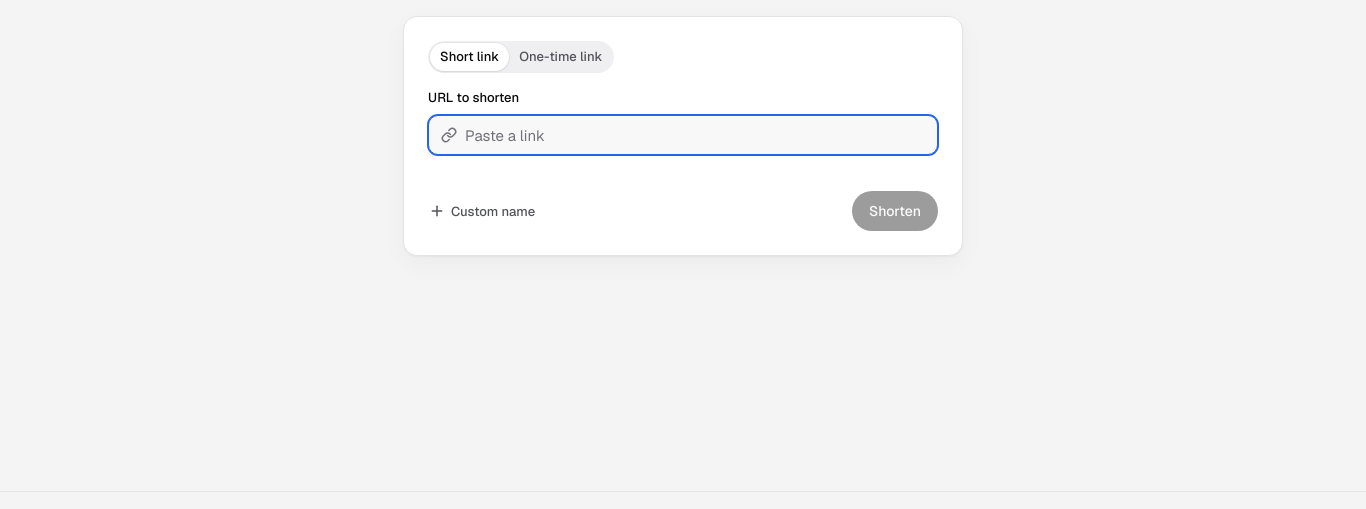
Scenario: home page without layout shift › puts URL or Text on the mode row, so the field below never moves
Click the radio button labelled "One-time link" at coordinates (561, 57), box [509, 43, 612, 71]
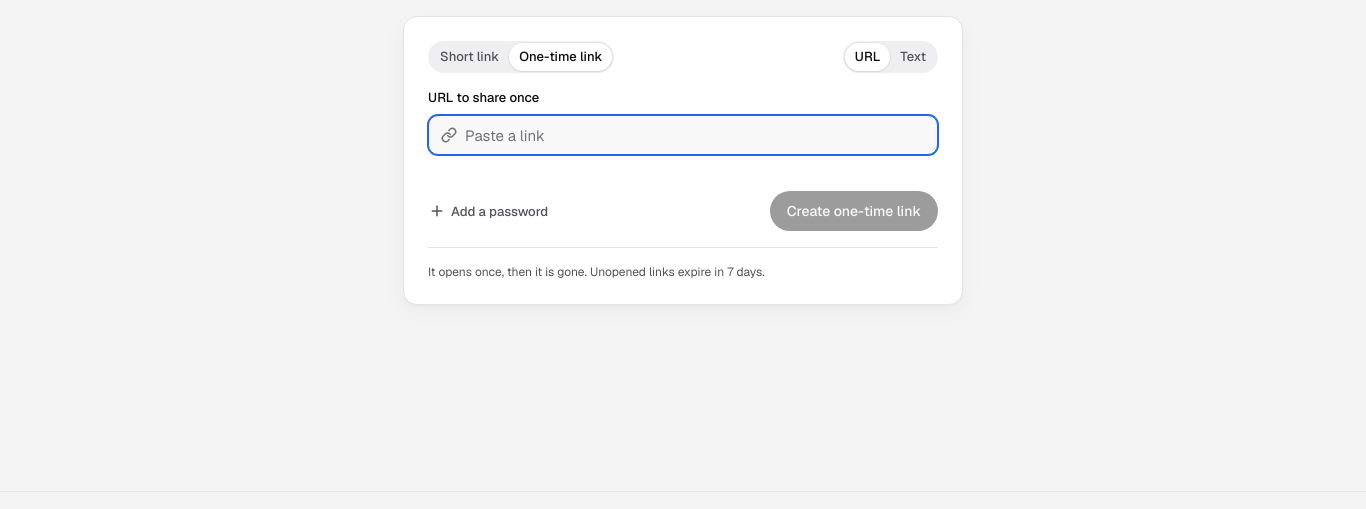
Result: the radio button labelled "URL" is checked at [845, 43, 890, 71]
Click the radio button labelled "Text" at coordinates (913, 57), box [890, 43, 936, 71]
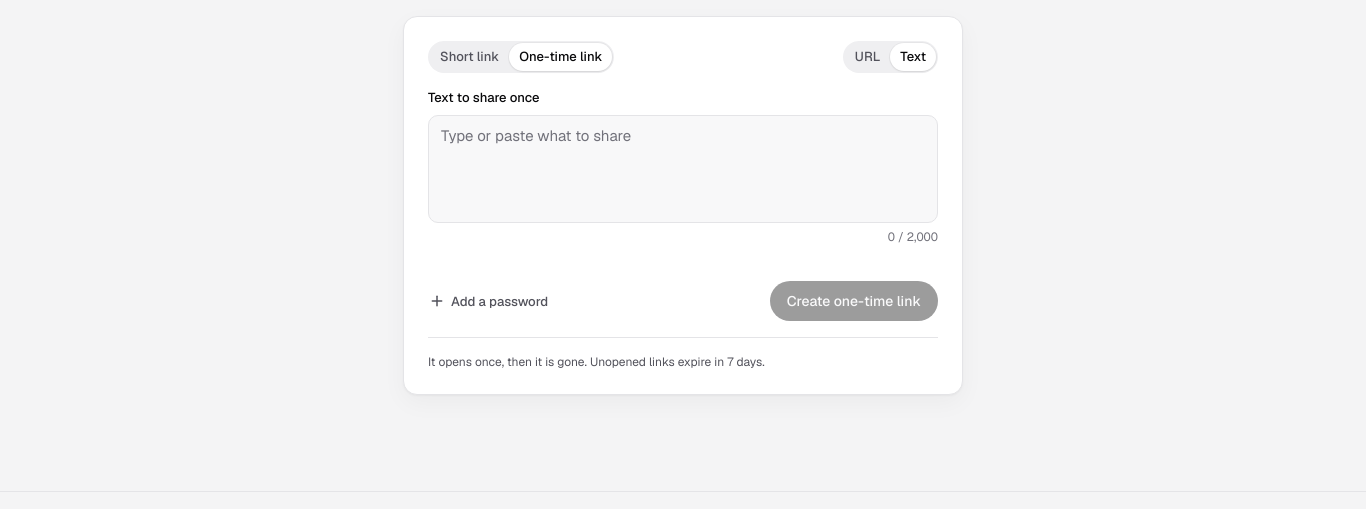
// Back to a short link: the URL or Text choice goes, and starts on URL next time.
Click the radio button labelled "Short link" at coordinates (470, 57), box [430, 43, 509, 71]
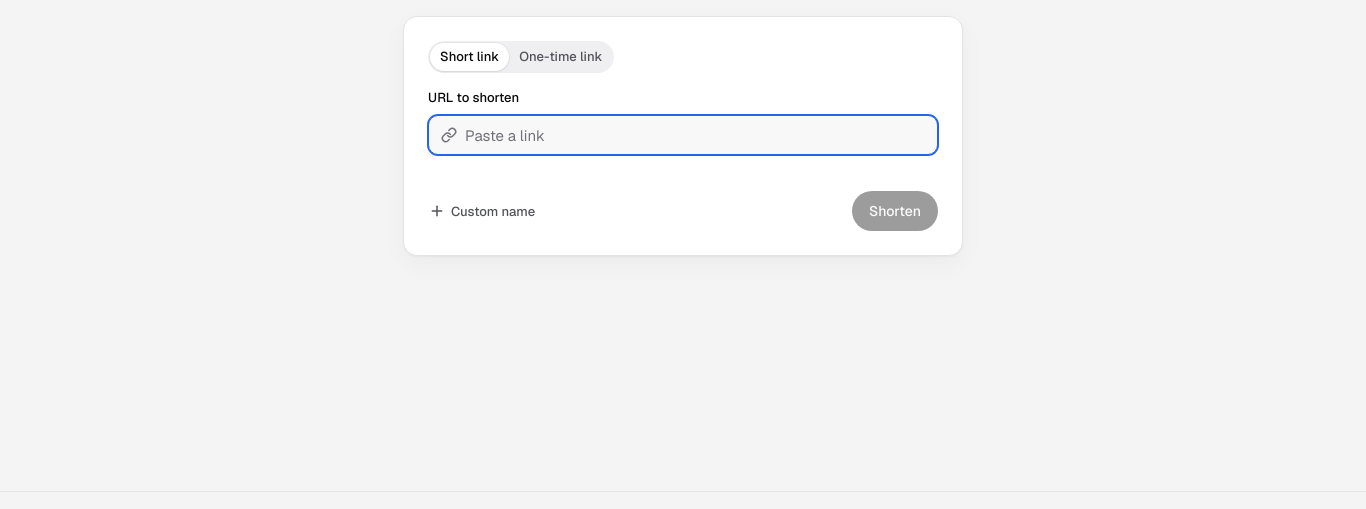
Result: the text "URL Text" is gone
Click the radio button labelled "One-time link" at coordinates (561, 57), box [509, 43, 612, 71]
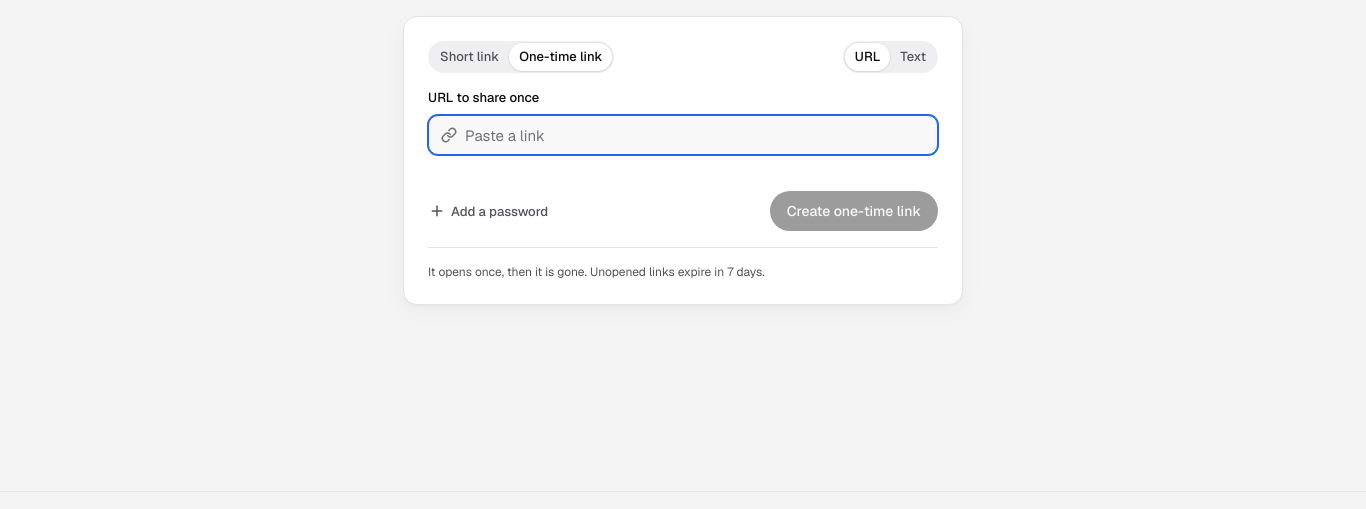
Result: the radio button labelled "URL" is checked at [845, 43, 890, 71]
